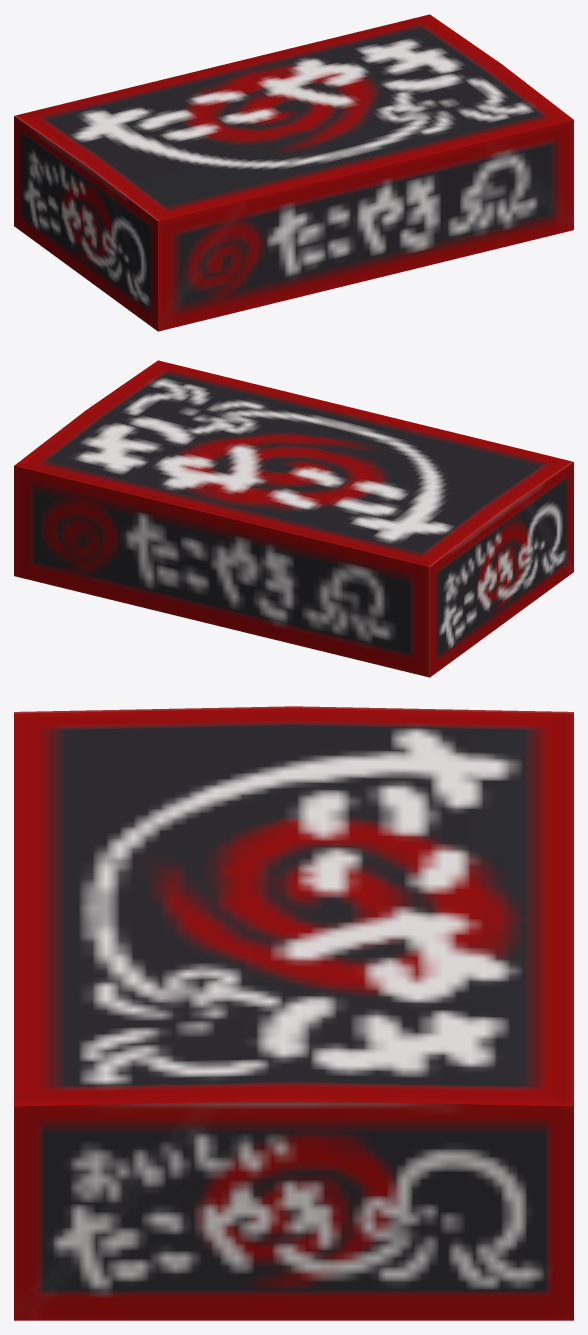
File: jsf_BoxTakoyaki_02.fbx
3 renders of one model, top to bottom at view 1: azimuth 30°, elevation 25°; view 2: azimuth 150°, elevation 25°; view 3: azimuth 270°, elevation 25°, orthographic. The views are drawn at different scales.
Visible parts, largest first — view 1: jsf_BoxTakoyaki_02; view 2: jsf_BoxTakoyaki_02; view 3: jsf_BoxTakoyaki_02.
Boxes of the visible parts, bbox=[...] form: jsf_BoxTakoyaki_02: bbox=[14, 14, 573, 331]; jsf_BoxTakoyaki_02: bbox=[14, 360, 573, 677]; jsf_BoxTakoyaki_02: bbox=[14, 706, 573, 1320].
Size of the model in its own units: 15 by 3.9 by 9.
